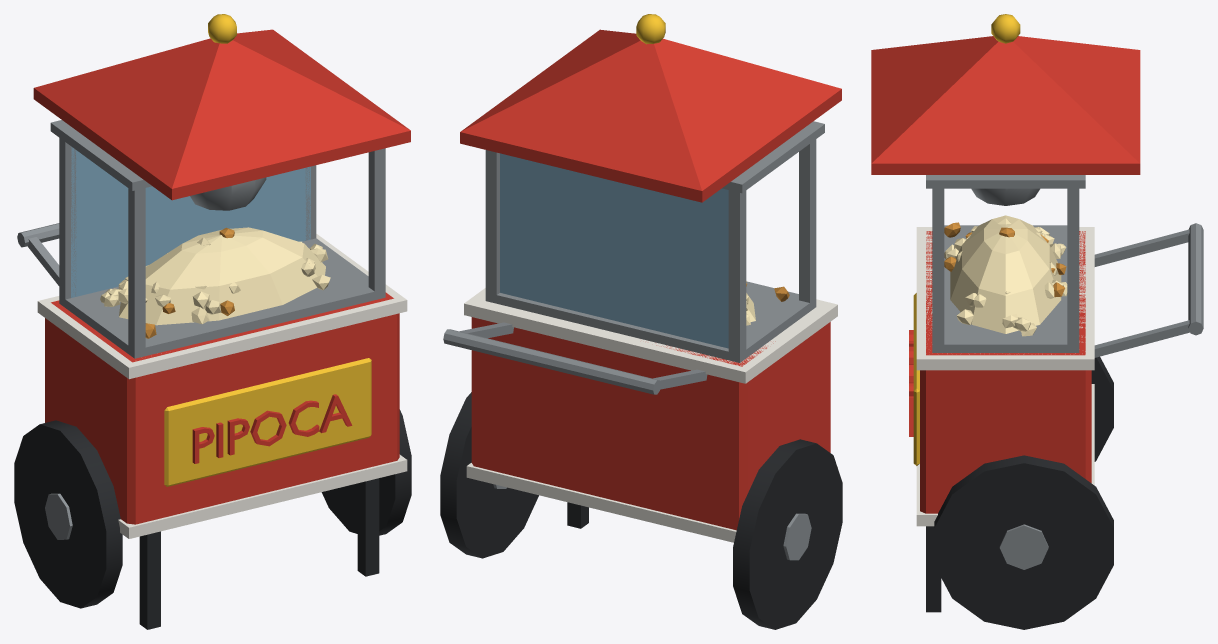
Rendered from carrinho_pipoca.glb.
3 renders of one model, left to right at view 1: azimuth 30°, elevation 25°; view 2: azimuth 150°, elevation 25°; view 3: azimuth 270°, elevation 25°, orthographic. The views are drawn at different scales.
Visible parts, largest first — view 1: carrinho_pipoca; view 2: carrinho_pipoca; view 3: carrinho_pipoca.
Part boxes in pixels (x1,y1,x2,y2): carrinho_pipoca: (14,14,411,629); carrinho_pipoca: (440,14,842,629); carrinho_pipoca: (871,14,1203,629).
Size of the model in its own units: 1.14 by 1.95 by 1.08.
